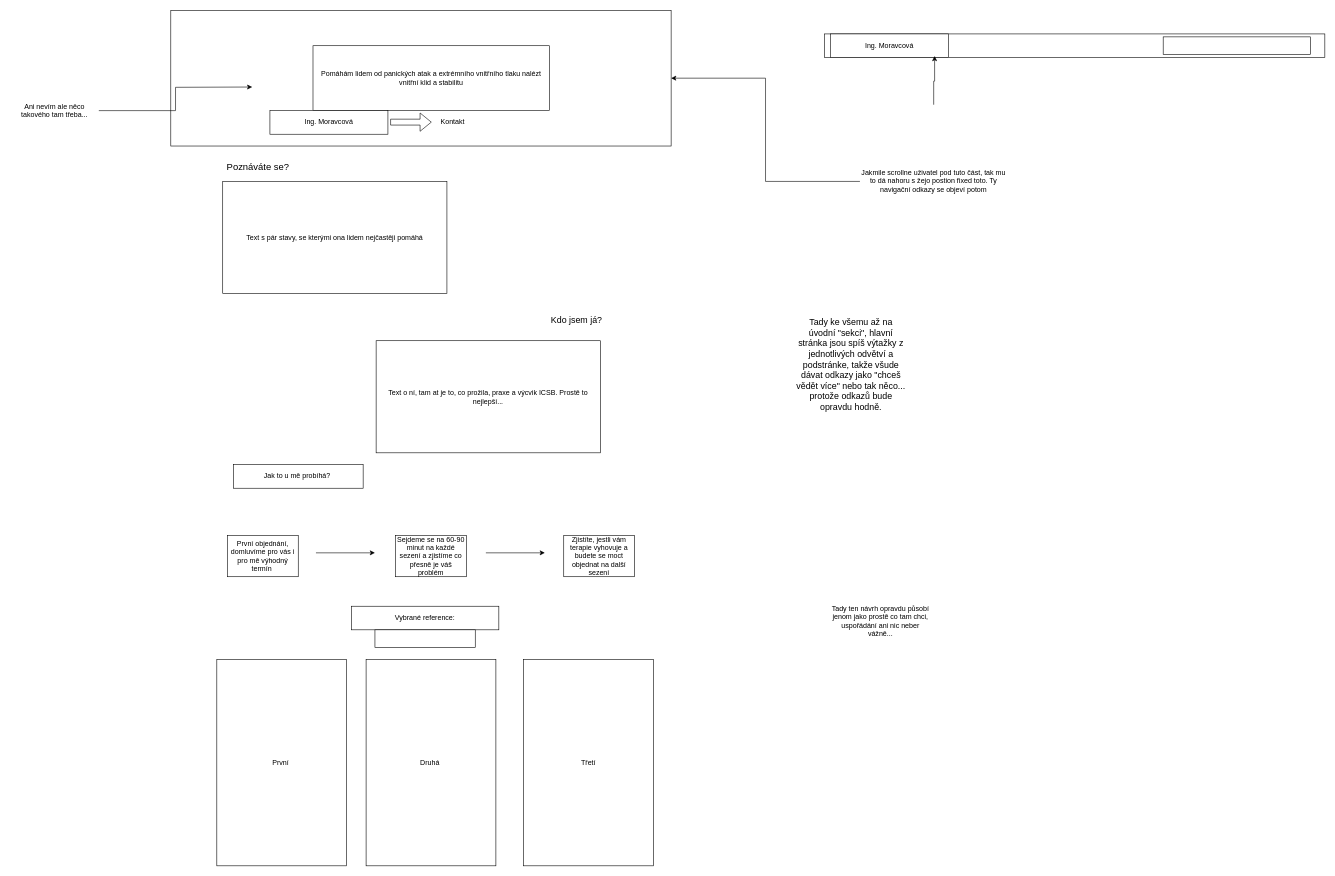
This 1335x876 diagram has some shape labels left out. The shapes that lost their labels are listed below. From the top down, each one's box as (x1, y1, x2, y2) in pixels, then its label:
(1163, 36, 1311, 55): nav
(374, 629, 475, 648): Všechny reference(odkaz)
